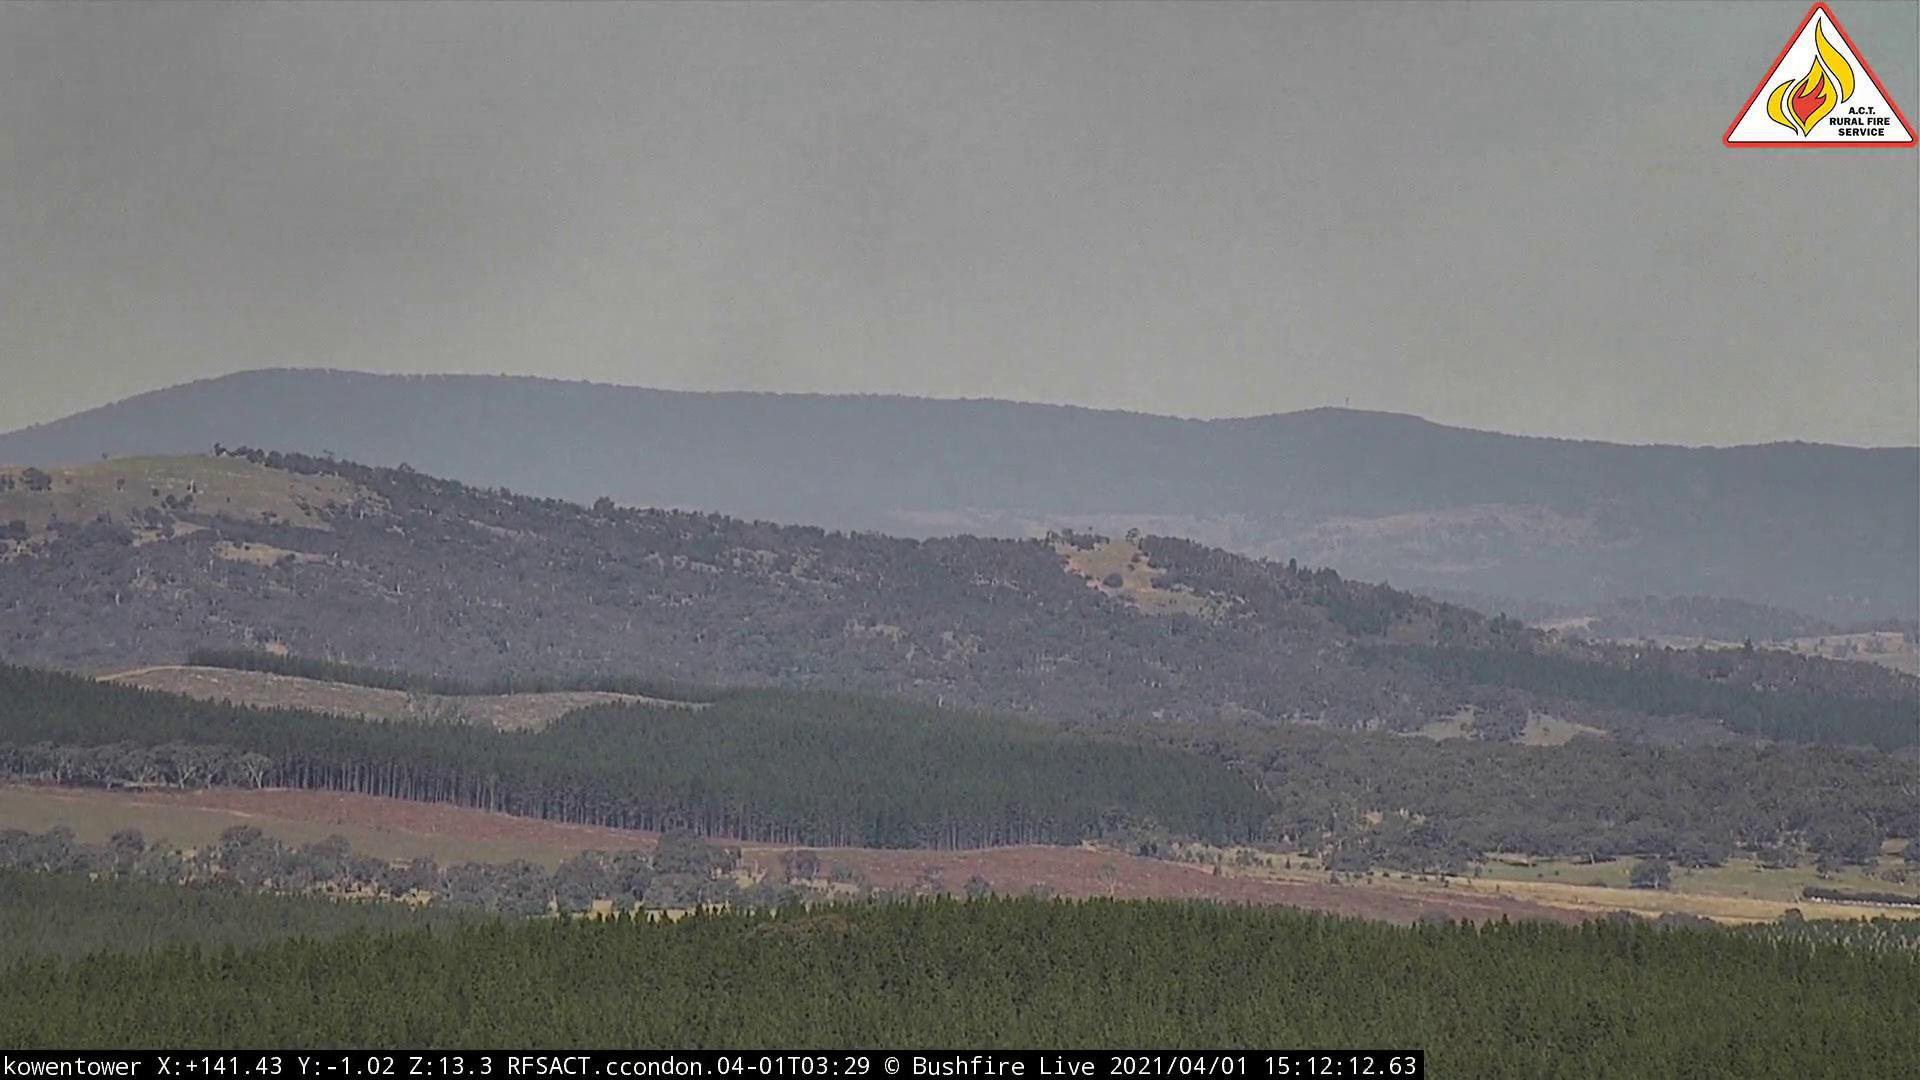instance_salient_object: (3, 117, 965, 465)
